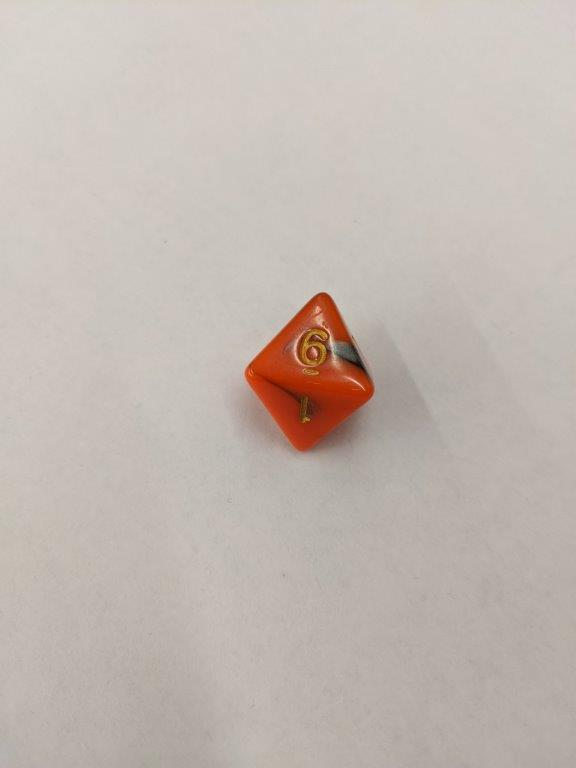d8-6: (241, 290, 383, 457)
